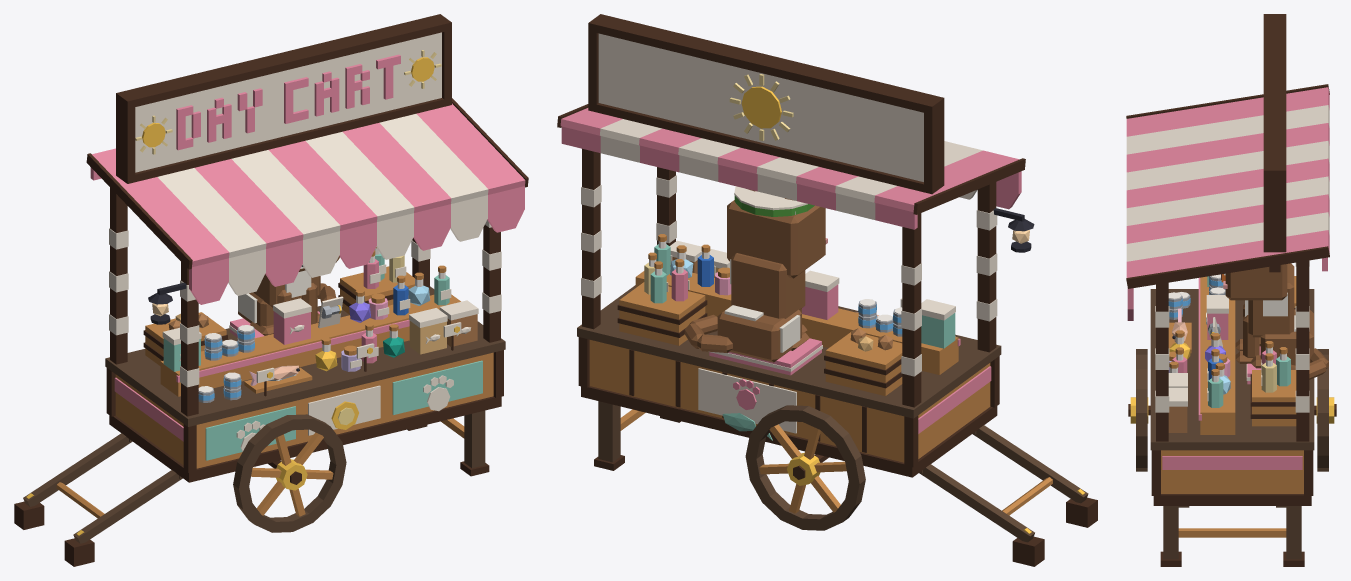
File: CatCafe_Town_DayCart.glb
3 views of the same model, side by side, from view 1: azimuth 30°, elevation 25°; view 2: azimuth 150°, elevation 25°; view 3: azimuth 270°, elevation 25° (orthographic). The views are drawn at different scales.
Visible parts, largest first — view 1: CatCafe_Town_DayCart, CatCafe_Town_DayCart_Cat_Body; view 2: CatCafe_Town_DayCart, CatCafe_Town_DayCart_Cat_Body, CatCafe_Town_DayCart_Cat_Head, CatCafe_Town_DayCart_Cat_Prop, CatCafe_Town_DayCart_Cat_Tail; view 3: CatCafe_Town_DayCart, CatCafe_Town_DayCart_Cat_Body, CatCafe_Town_DayCart_Cat_Head, CatCafe_Town_DayCart_Cat_LegF1, CatCafe_Town_DayCart_Cat_Tail.
Boxes of the visible parts, left/top/right/bottom form: CatCafe_Town_DayCart: left=14, top=14, right=528, bottom=566; CatCafe_Town_DayCart_Cat_Body: left=238, top=270, right=320, bottom=335; CatCafe_Town_DayCart: left=557, top=14, right=1097, bottom=566; CatCafe_Town_DayCart_Cat_Body: left=717, top=253, right=809, bottom=362; CatCafe_Town_DayCart_Cat_Head: left=727, top=200, right=827, bottom=278; CatCafe_Town_DayCart_Cat_Prop: left=734, top=186, right=814, bottom=216; CatCafe_Town_DayCart_Cat_Tail: left=684, top=314, right=732, bottom=352; CatCafe_Town_DayCart: left=1126, top=14, right=1336, bottom=566; CatCafe_Town_DayCart_Cat_Body: left=1245, top=263, right=1313, bottom=368; CatCafe_Town_DayCart_Cat_Head: left=1223, top=264, right=1287, bottom=300; CatCafe_Town_DayCart_Cat_LegF1: left=1235, top=315, right=1259, bottom=363; CatCafe_Town_DayCart_Cat_Tail: left=1291, top=348, right=1328, bottom=379.
Size of the model in its own units: 8.41 by 7.61 by 3.6.
1 material, 1 textured.
